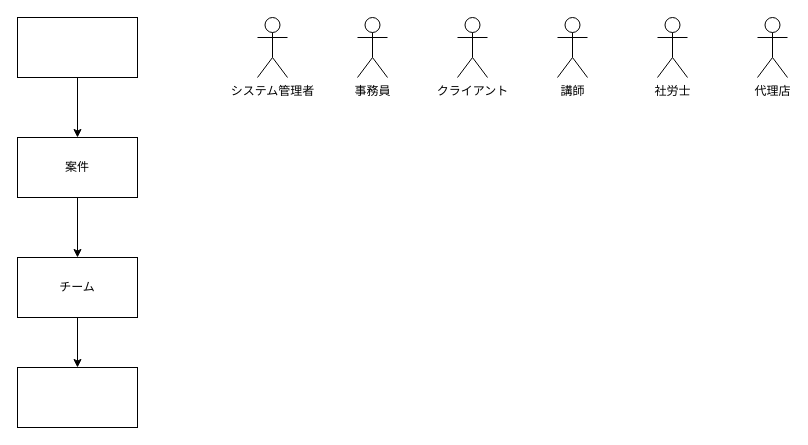
Some shapes in this 808 by 445 pixel diagram are drawn without their labels. The shapes that lost their labels are listed below. From the top down, each one's box as (x1, y1, x2, y2) in pixels, then its label:
(16, 16, 138, 78): 顧客
(16, 366, 138, 428): 受講者
